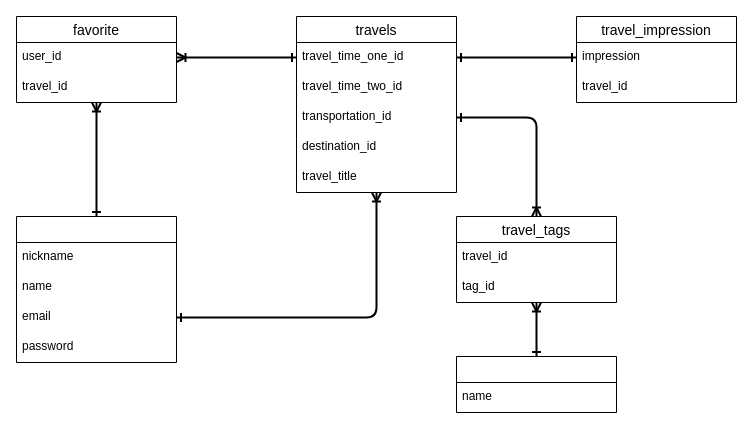
The diagram is 753 pixels wide and 429 high, and some of its shapes have lost their labels. Here are the shapes that lost their labels. From the top down, the box of each, then its label:
(16, 216, 176, 362): users
(456, 356, 616, 412): tags
